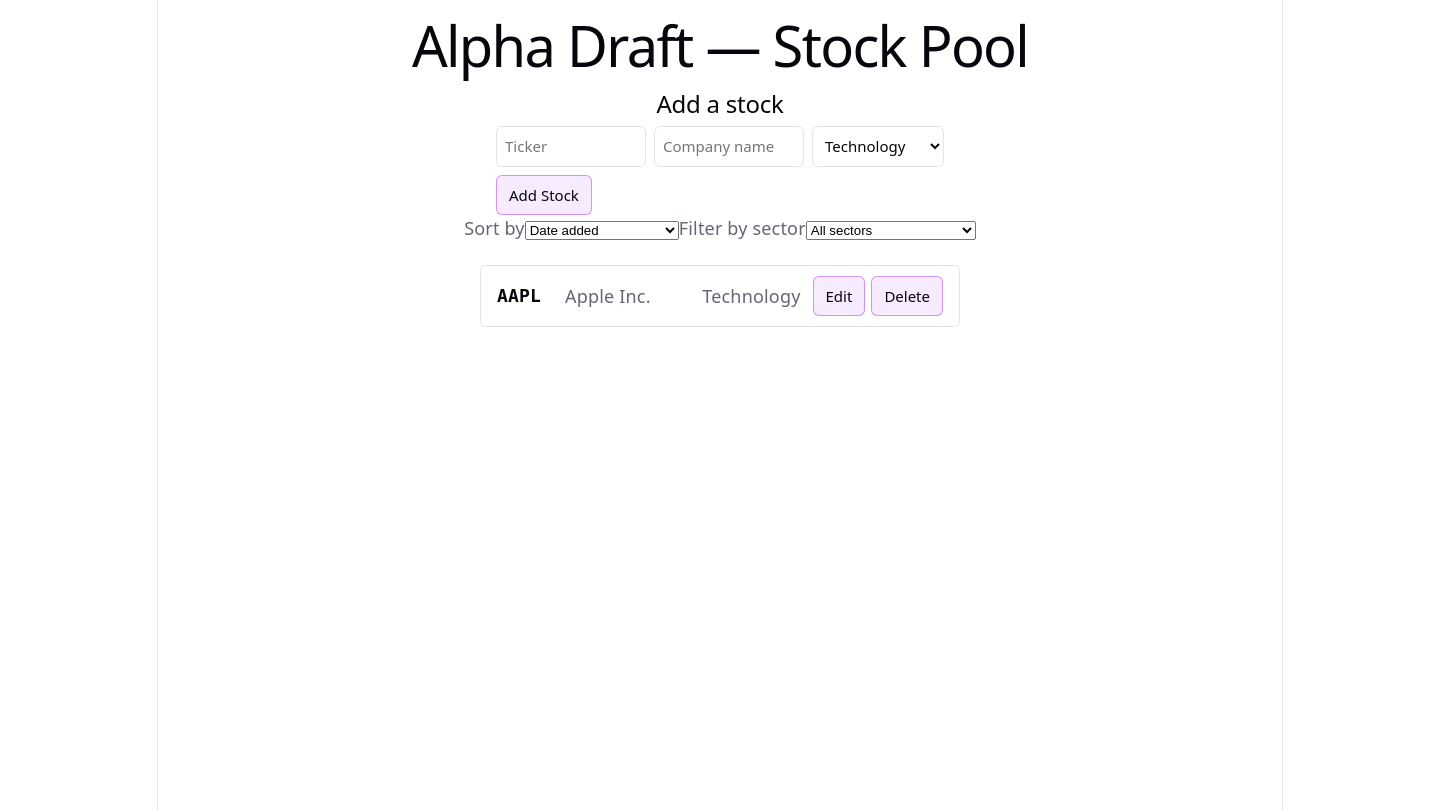
adds a created stock to the list without reloading
This screenshot has width=1440, height=810.
expect the text "AAPL" is shown: met, box [497, 283, 541, 309]
Step 1. Type "MSFT" into the field labelled "Ticker" → coordinates (571, 146), box [496, 126, 646, 166]
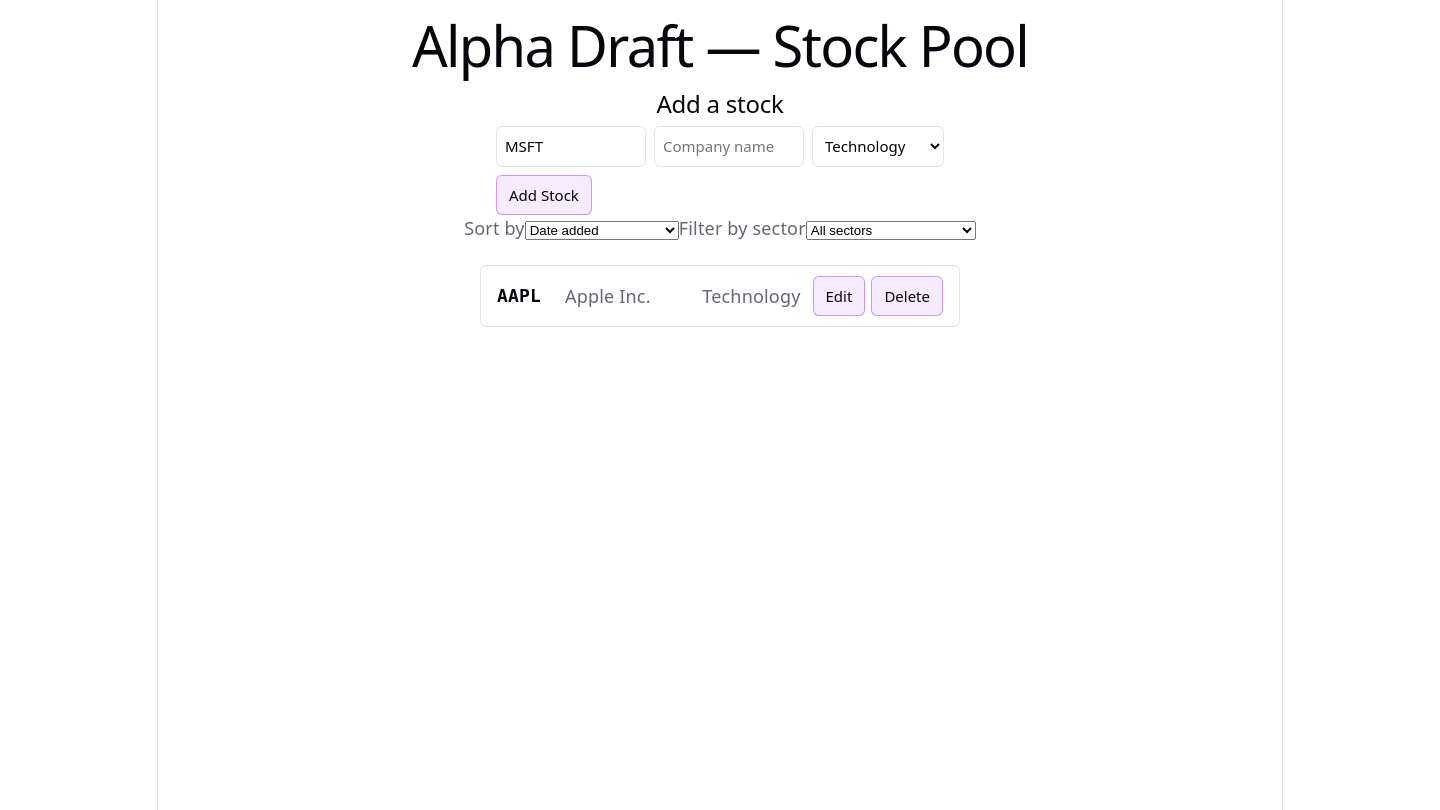
Step 2. Type "Microsoft Corporation" into the field labelled "Company name" → coordinates (729, 146), box [654, 126, 804, 166]
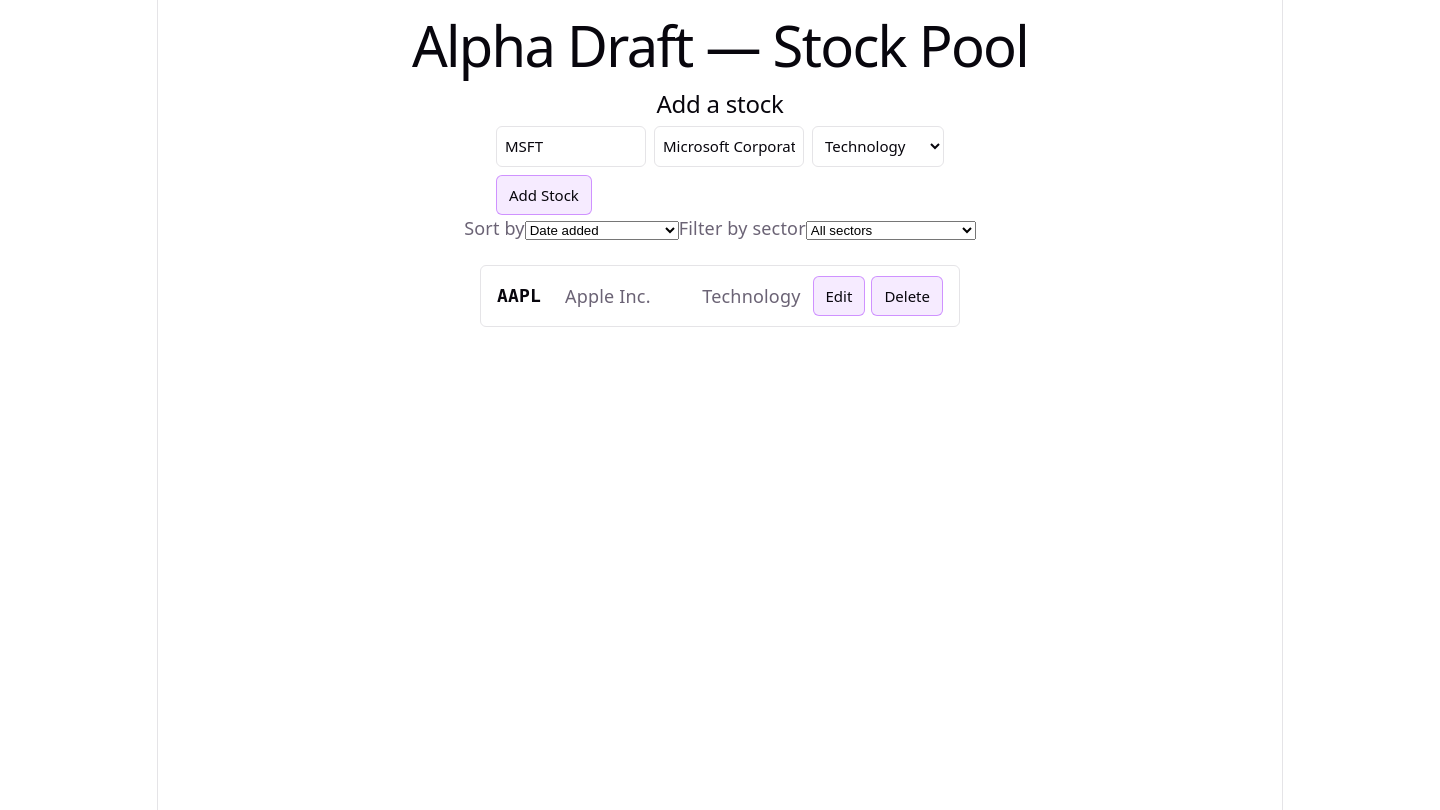
Step 3. Click the button "Add Stock" → coordinates (544, 195), box [496, 174, 592, 215]
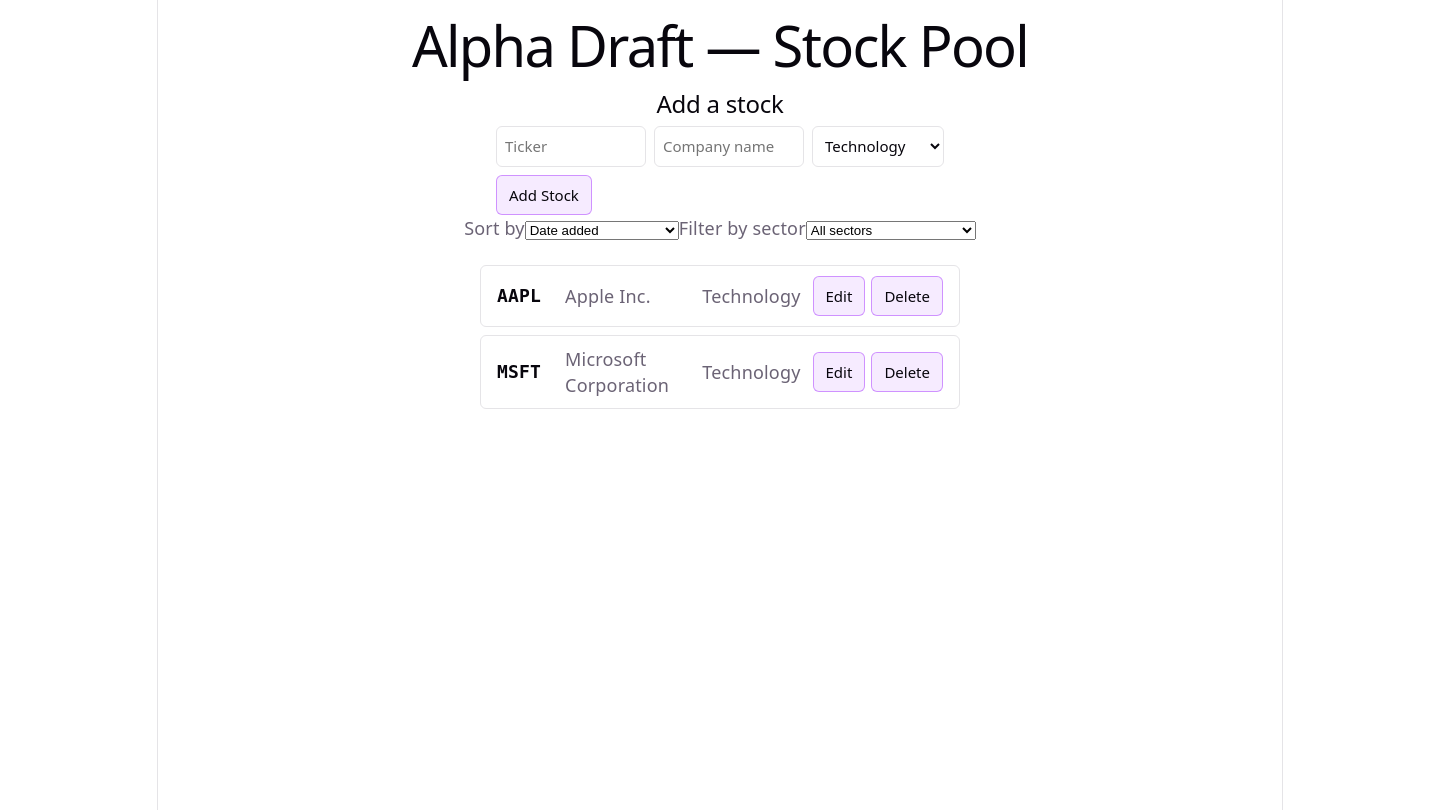
expect the text "AAPL" is shown: met, box [497, 283, 541, 309]
expect the text "MSFT" is shown: met, box [497, 359, 541, 385]
